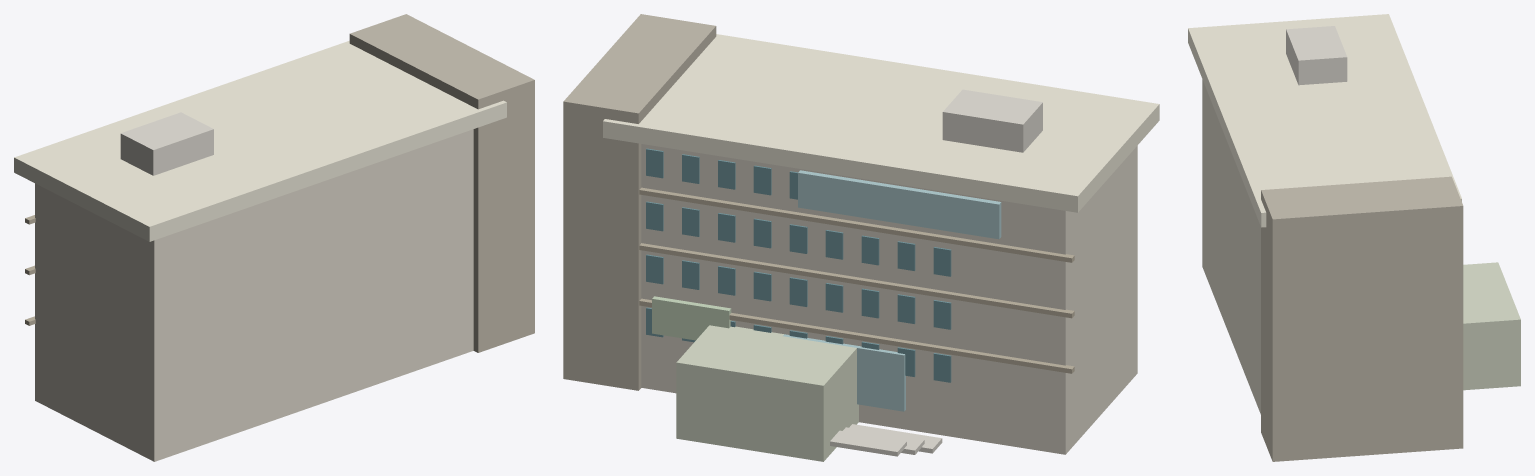
The model's file is sotong-overview.glb.
3 views of the same model, side by side, from view 1: azimuth 30°, elevation 25°; view 2: azimuth 150°, elevation 25°; view 3: azimuth 270°, elevation 25° (orthographic). The views are drawn at different scales.
Bounding box in the file's own units: 24.52 × 13.72 × 16.06.
